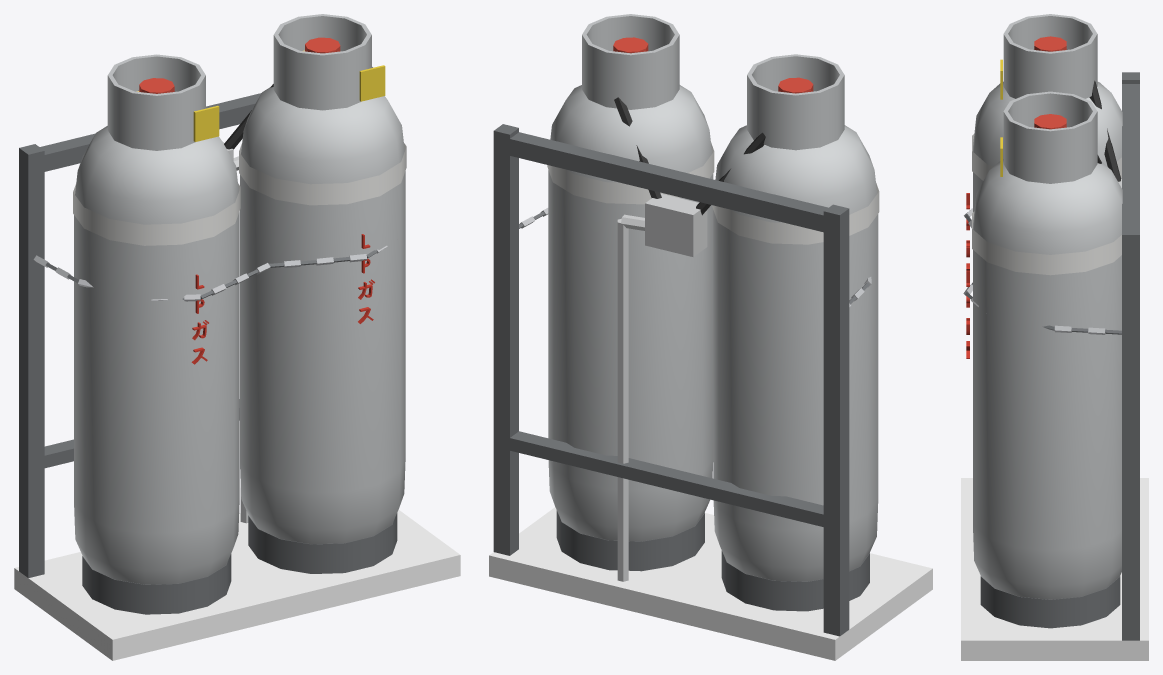
The model's file is propane.glb.
3 renders of one model, left to right at view 1: azimuth 30°, elevation 25°; view 2: azimuth 150°, elevation 25°; view 3: azimuth 270°, elevation 25°, orthographic. The views are drawn at different scales.
Visible parts, largest first — view 1: propane_body; view 2: propane_body; view 3: propane_body.
Part boxes in pixels (x1=…): propane_body: x1=14, y1=14, x2=460, y2=660; propane_body: x1=489, y1=14, x2=932, y2=660; propane_body: x1=961, y1=14, x2=1148, y2=660.
Size of what is drawn, in the model's own units: 0.86 by 1.25 by 0.42.
